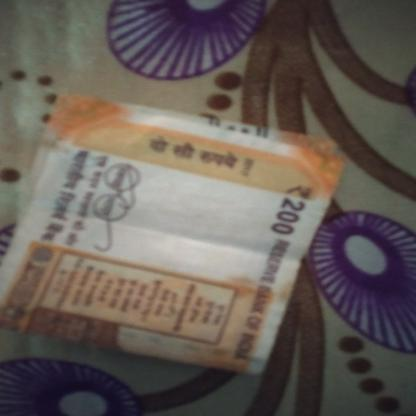New200Back: (18, 114, 313, 373)
